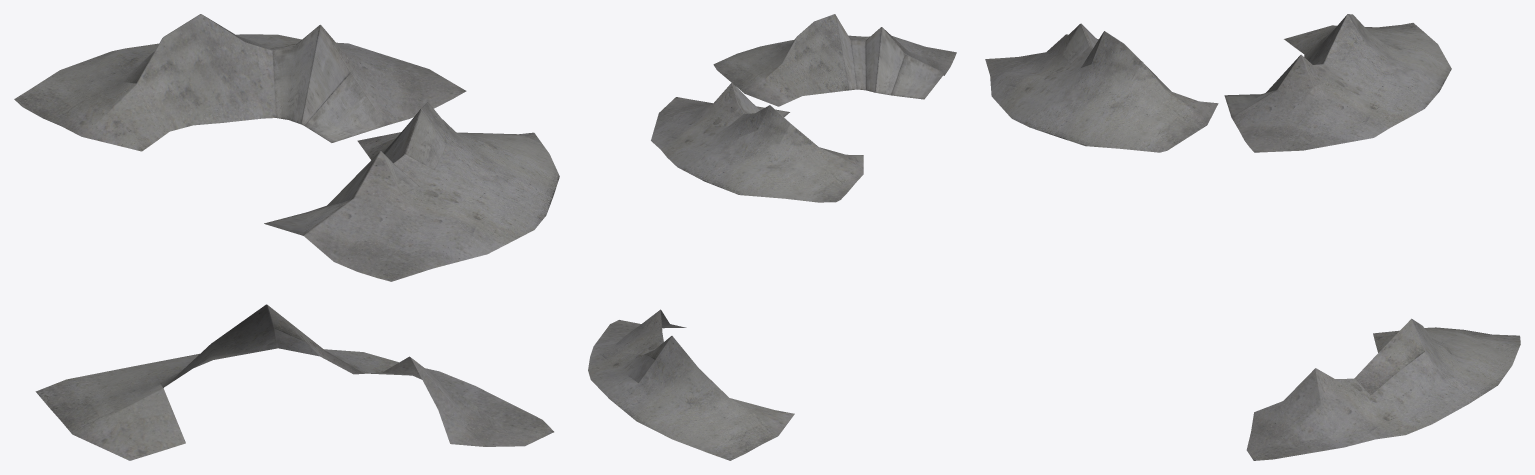
The picture shows the model from 3 angles, left to right: view 1: azimuth 30°, elevation 25°; view 2: azimuth 150°, elevation 25°; view 3: azimuth 270°, elevation 25°; orthographic projection. The views are drawn at different scales.
Parts seen in each view (by area): view 1: Cube.007; view 2: Cube.007; view 3: Cube.007.
Boxes of the visible parts, x1=… form: Cube.007: x1=14, y1=14, x2=559, y2=460; Cube.007: x1=588, y1=14, x2=956, y2=460; Cube.007: x1=985, y1=14, x2=1520, y2=460.
Bounding box in the file's own units: 2316 × 2309 × 3228.
